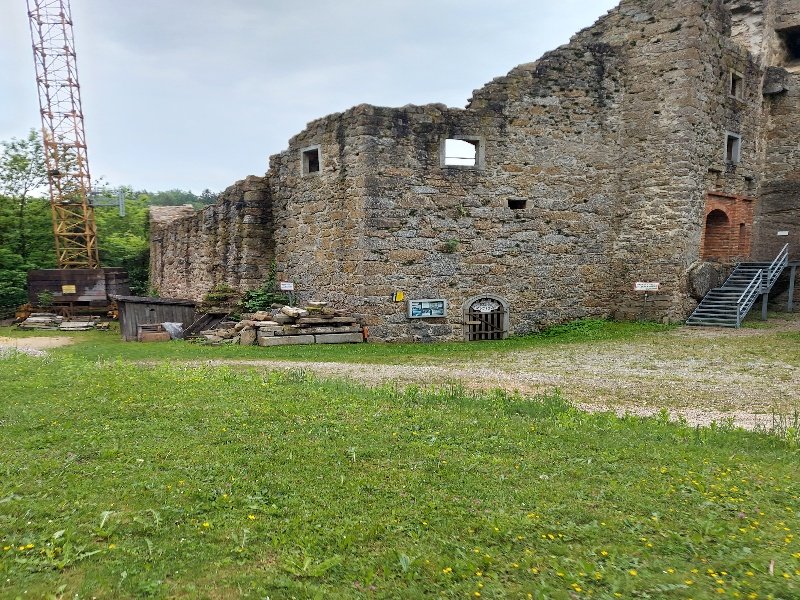dungeon: (455, 285, 512, 345)
